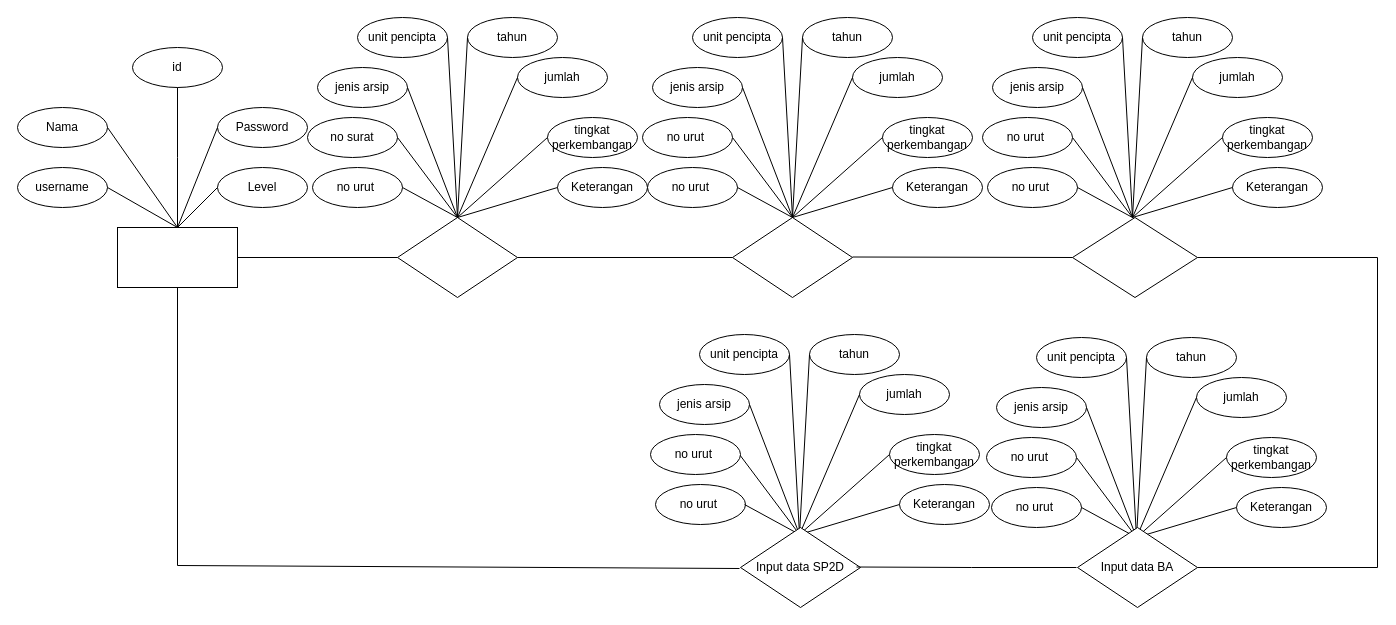
The diagram is 1396 pixels wide and 625 high, and some of its shapes have lost their labels. The box of each missing label's shape, as (x1, y1, x2, y2) in pixels:
Admin: (116, 226, 238, 288)
Input data BAN: (732, 216, 852, 298)
Input data BPA: (1072, 216, 1198, 298)
Input data SE: (396, 216, 518, 298)
